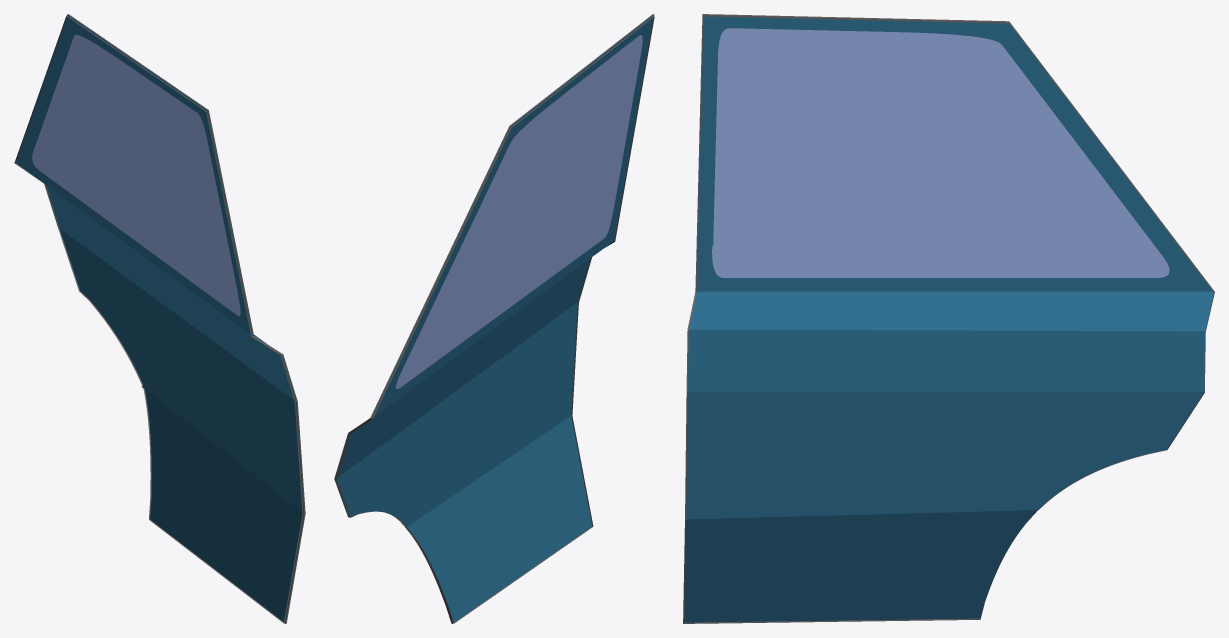
File: back_door.fbx
3 views of the same model, side by side, from view 1: azimuth 30°, elevation 25°; view 2: azimuth 150°, elevation 25°; view 3: azimuth 270°, elevation 25° (orthographic). The views are drawn at different scales.
Parts seen in each view (by area): view 1: Back doors; view 2: Back doors; view 3: Back doors.
Boxes of the visible parts, x1,y1,x2,y2 form: Back doors: [14, 14, 305, 623]; Back doors: [334, 14, 654, 623]; Back doors: [683, 14, 1214, 623].
Size of the model in its own units: 22.02 by 120 by 101.
